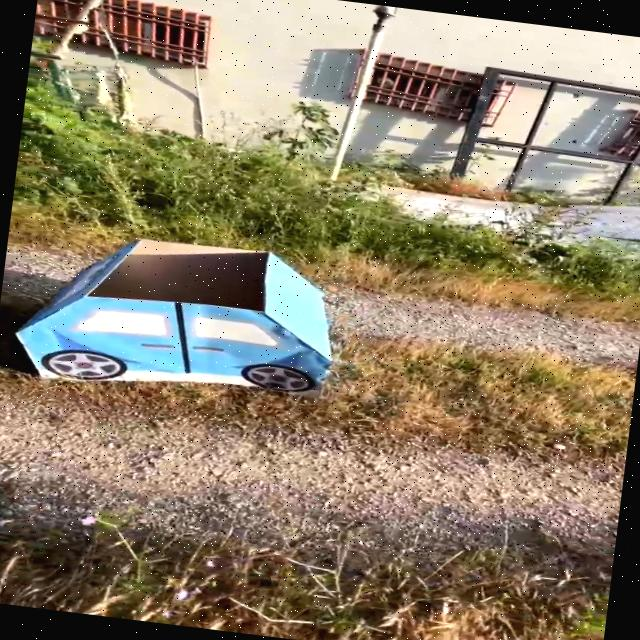blue_car: (0, 202, 375, 435)
